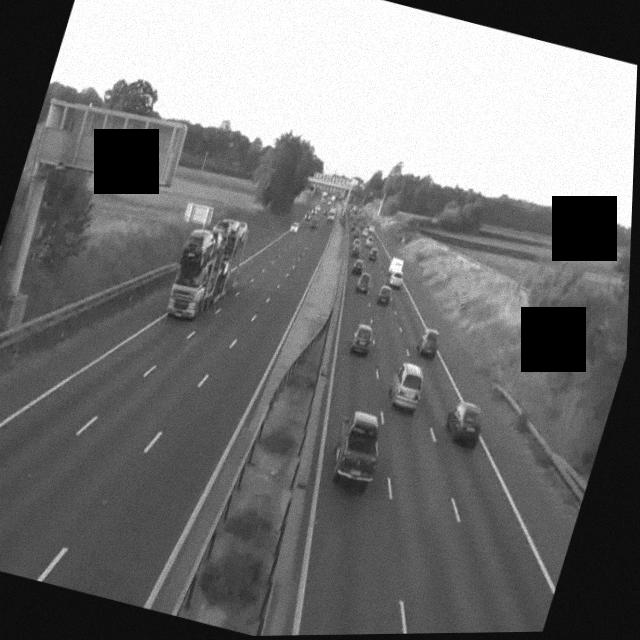car: (325, 406, 390, 492), (384, 358, 429, 414), (440, 397, 488, 447), (413, 325, 442, 359), (347, 323, 376, 355), (354, 271, 374, 294), (373, 285, 392, 306), (350, 256, 366, 275), (350, 242, 363, 259), (368, 247, 380, 263), (288, 219, 301, 233), (348, 224, 358, 236)
truck: (162, 211, 247, 325), (382, 255, 408, 289)
